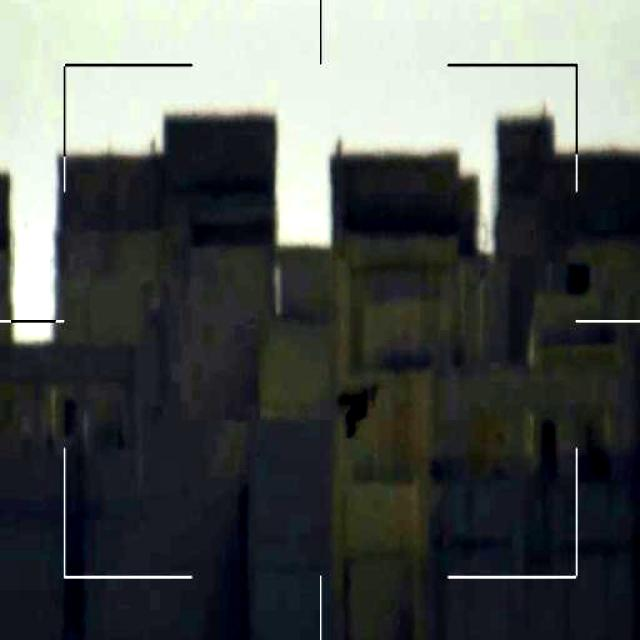bird: (330, 371, 386, 445)
